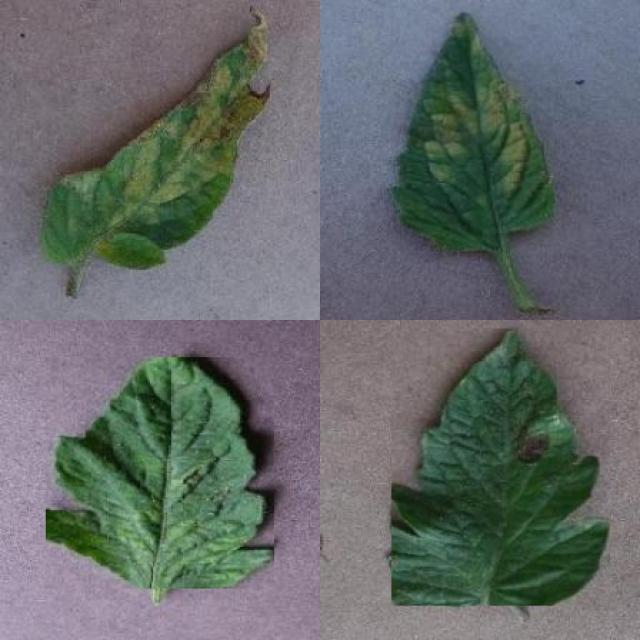Early Blight: (391, 328, 610, 606)
Leaf Mold: (42, 0, 272, 270), (391, 9, 553, 251)
Mosaic Virus: (45, 357, 275, 589)
